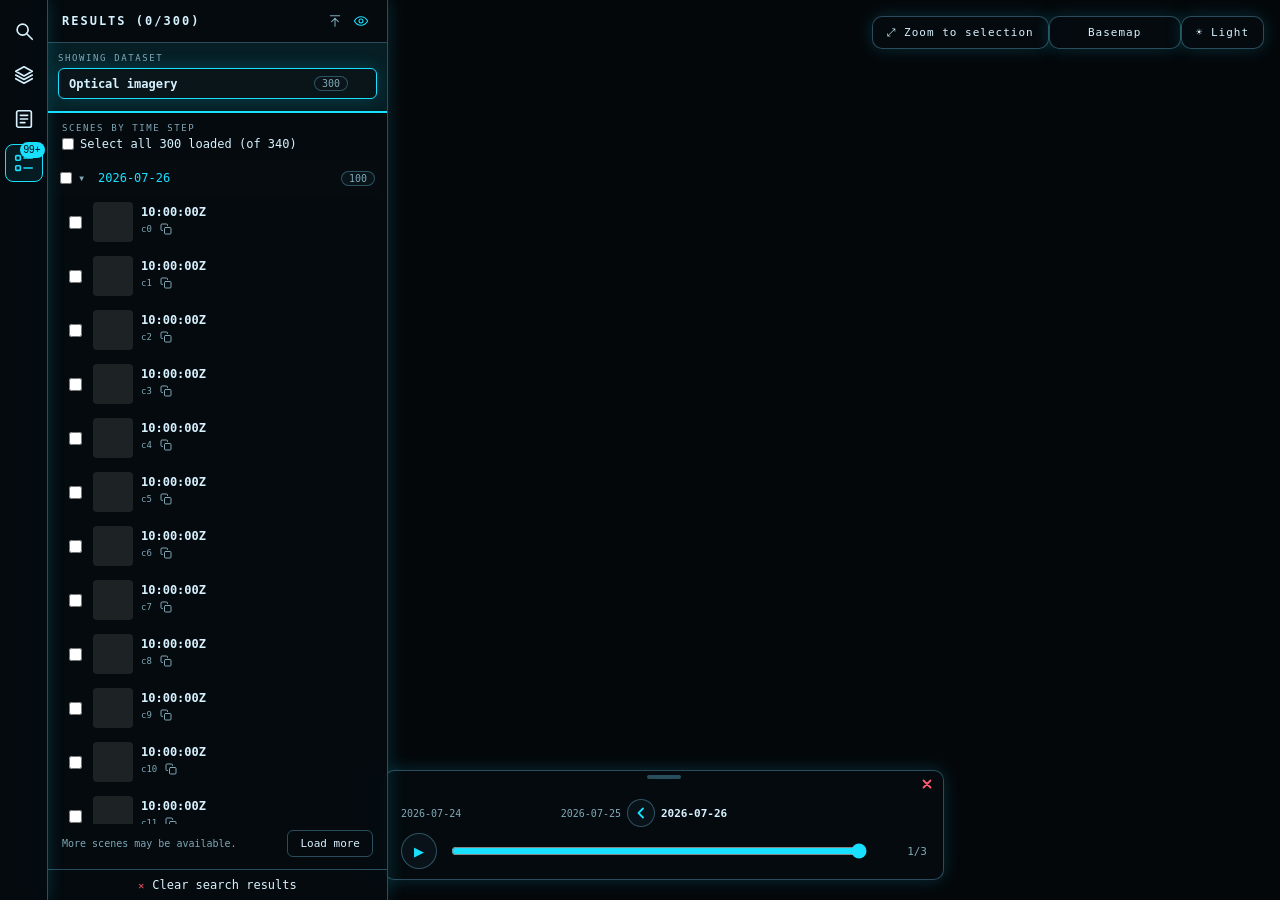
Test case: everything the list could do is in the panel › leaves the bar of the selection (view, download) at the bottom, next to the panel
The width and height of the screenshot is (1280, 900).
Click the checkbox labelled "Select all 300 loaded (of 340)" at (68, 144), box [62, 138, 74, 150]
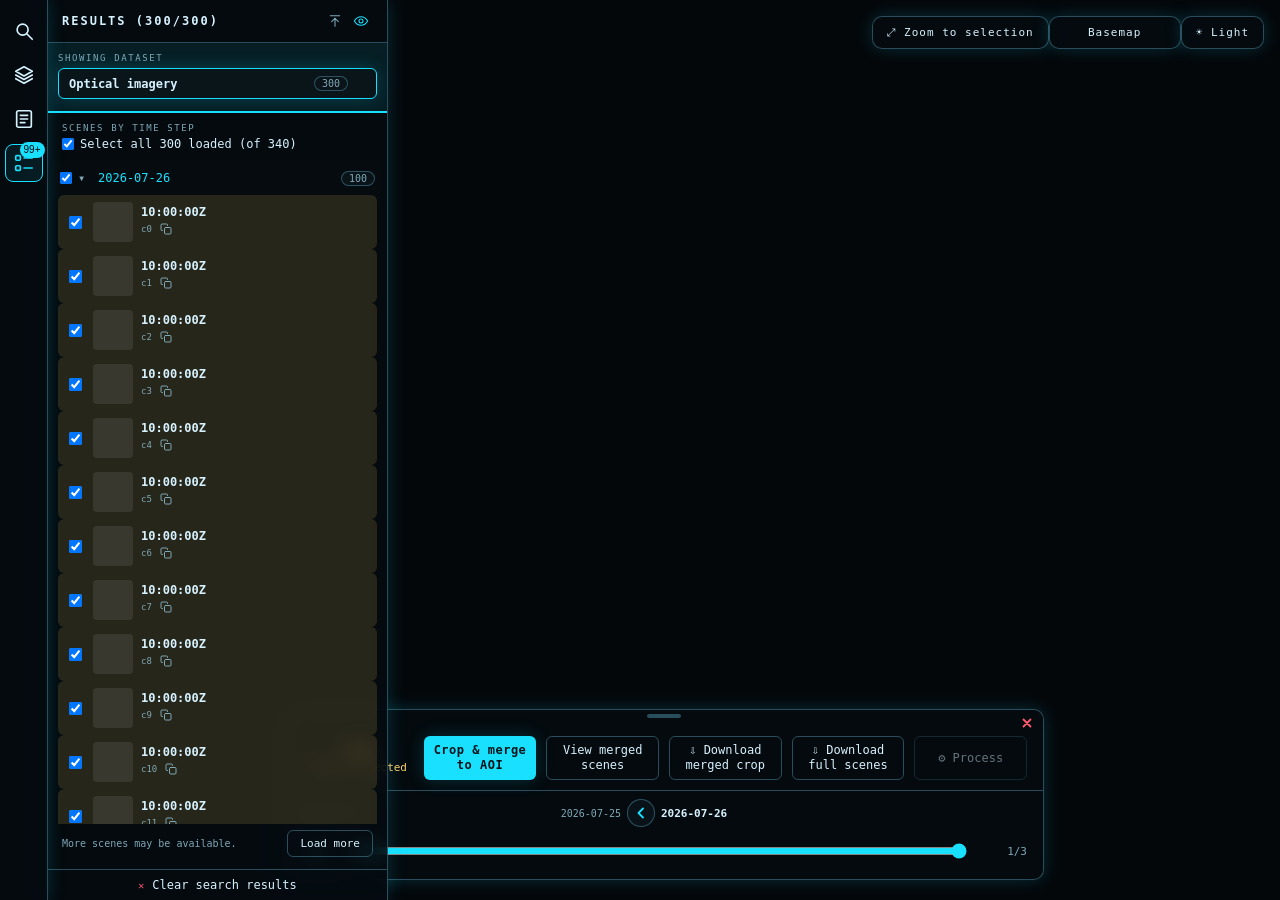
Check: the element with class "download-bar" is shown, box [285, 734, 1043, 790]
Check: the element with class "download-bar" shows "Crop & merge to AOI", box [424, 736, 536, 780]
Check: the element with class "download-bar" shows "Download merged crop", box [669, 736, 782, 780]
